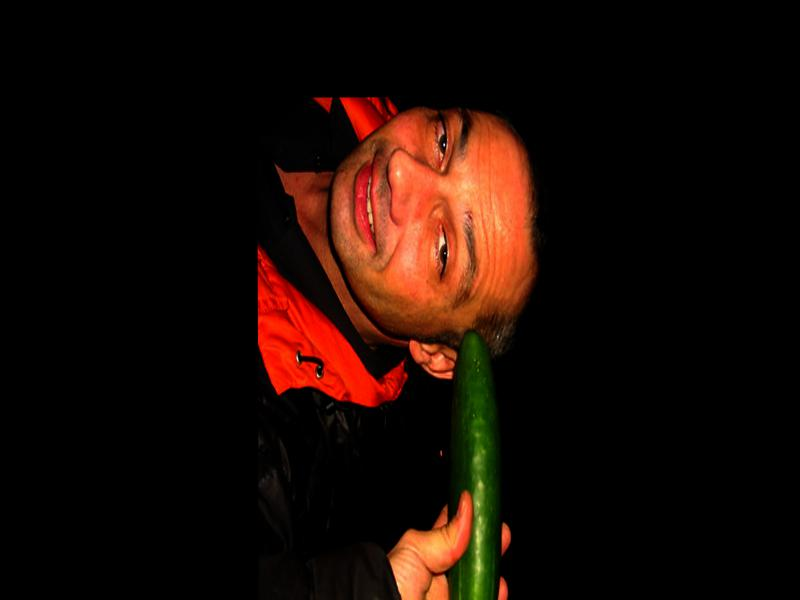Cucumber: (448, 327, 501, 600)
